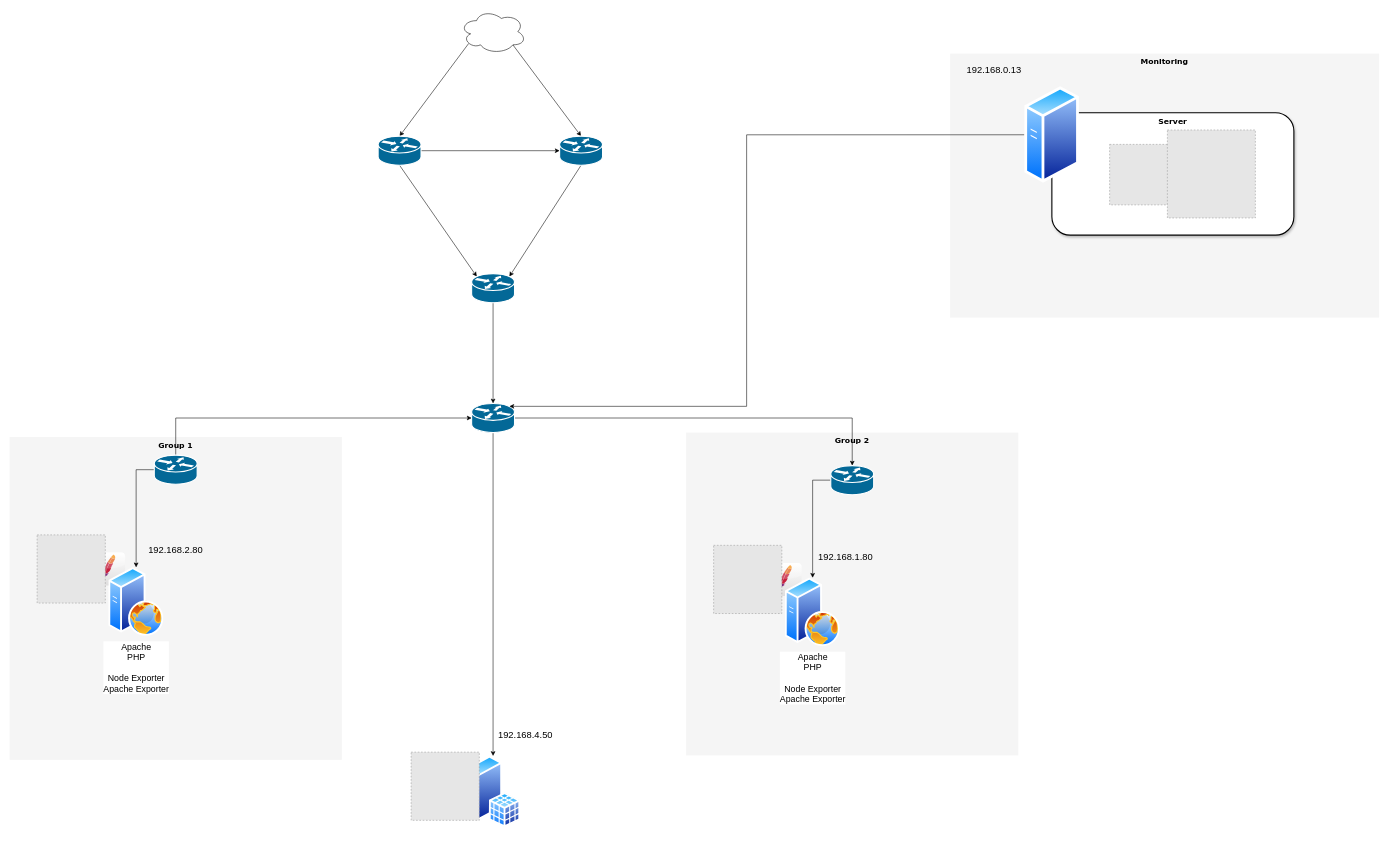
Some shapes in this 1388 by 853 pixel diagram are drawn without their labels. Grey dashed boxes stand in for pictures. Here are the shapes that lost their labels. From the top down, the centre of each, then its label:
point (493, 31): Internet
point (492, 791): SQL
